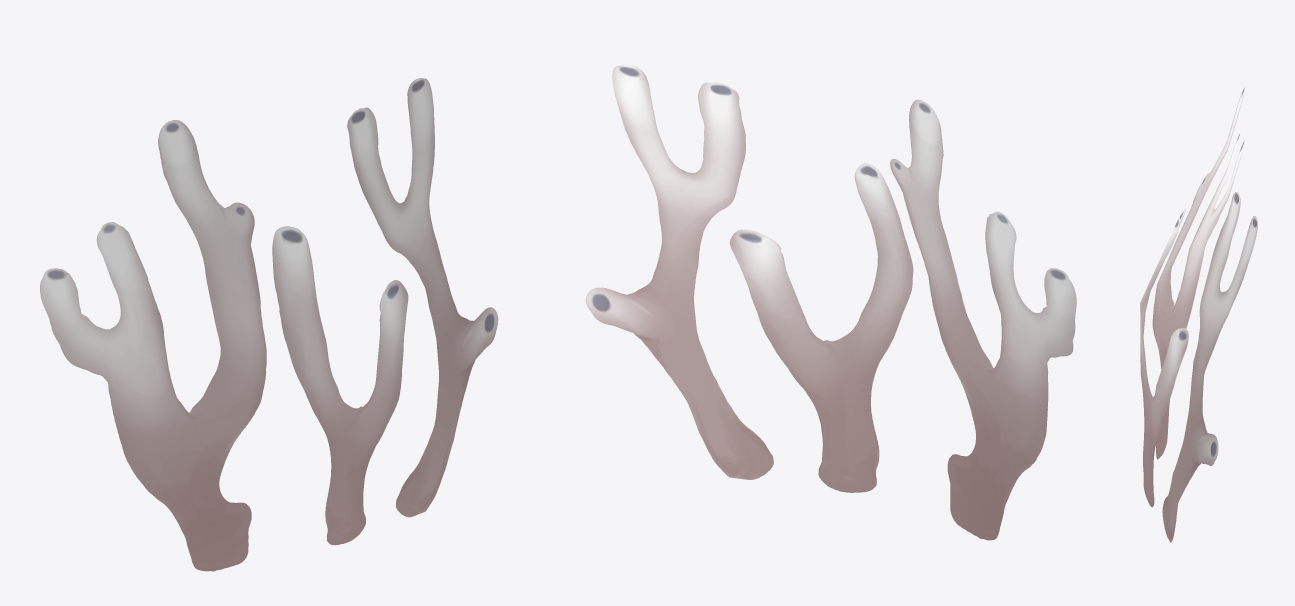
The model's file is sav_moss_bluestalk.fbx.
The picture shows the model from 3 angles, left to right: view 1: azimuth 30°, elevation 25°; view 2: azimuth 150°, elevation 25°; view 3: azimuth 270°, elevation 25°; orthographic projection. The views are drawn at different scales.
Parts seen in each view (by area): view 1: moss_blue_01.001; view 2: moss_blue_01.001; view 3: moss_blue_01.001.
Part boxes in pixels (box(x1,y1,x2,y2)): moss_blue_01.001: box(40, 78, 498, 571); moss_blue_01.001: box(585, 64, 1076, 540); moss_blue_01.001: box(1140, 86, 1257, 542).
Bounding box in the file's own units: 0.3222 × 0.295 × 0.0983.
1 material, 1 textured.
